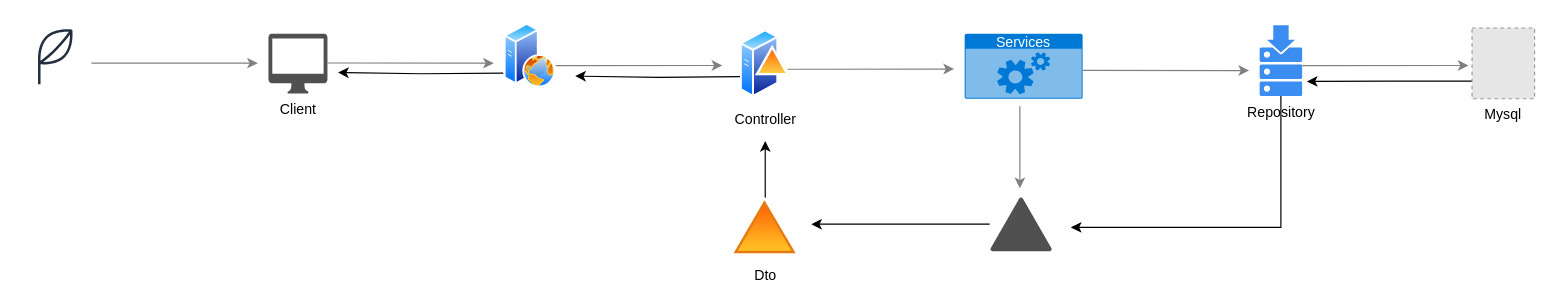
Some shapes in this 1555 by 304 pixel diagram are drawn without their labels. Grey dashed boxes stand in for pictures. The shapes that lost their labels are listed below. From the top down, each one's centre as x and y in pixels, then its label:
At point (55, 55): "Application".
At point (529, 55): "Web server".
At point (1020, 223): "Domain".
